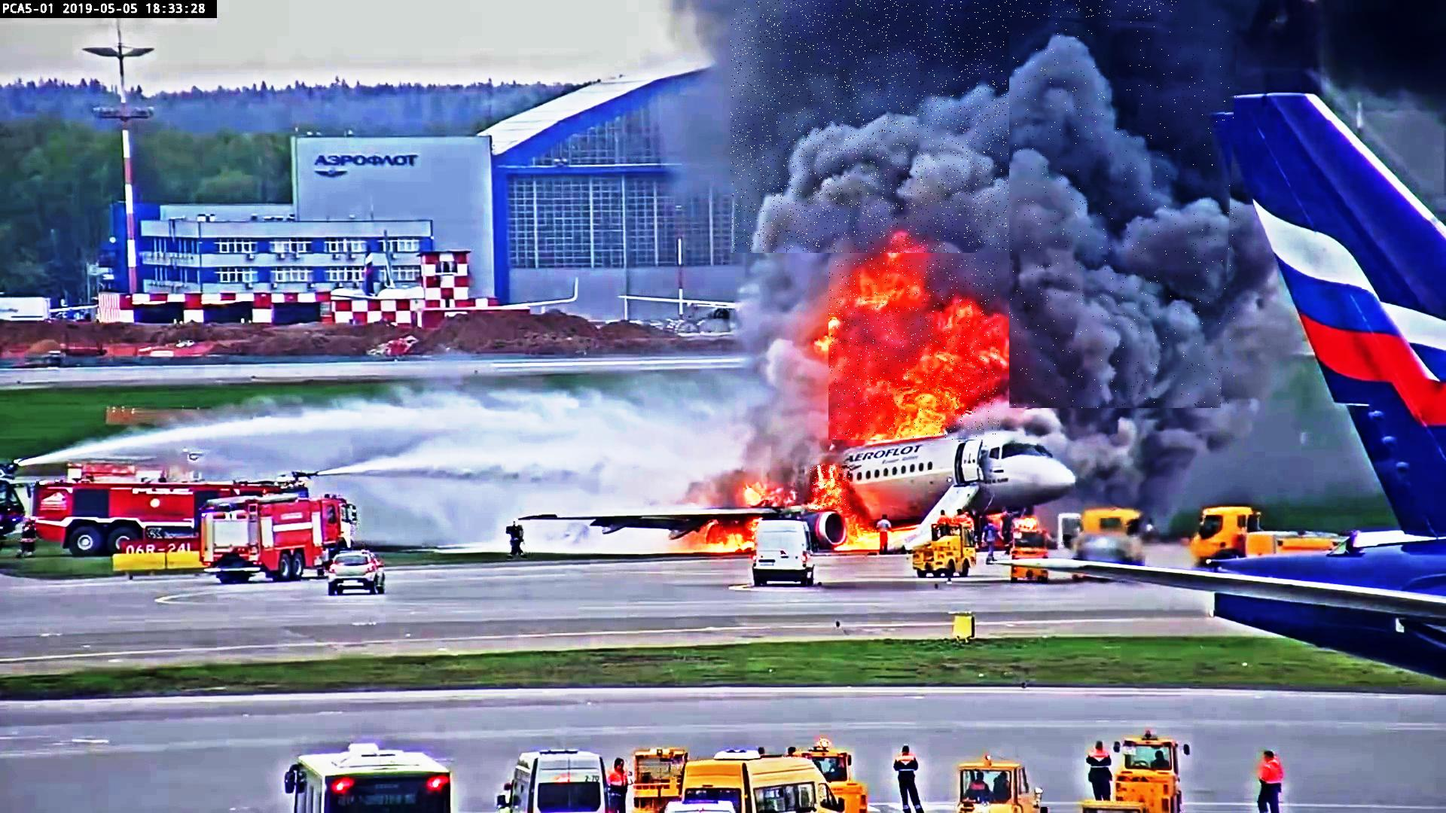fire: (829, 258, 999, 440), (810, 465, 852, 511)
smoke: (731, 0, 1179, 253), (1009, 17, 1237, 408)
